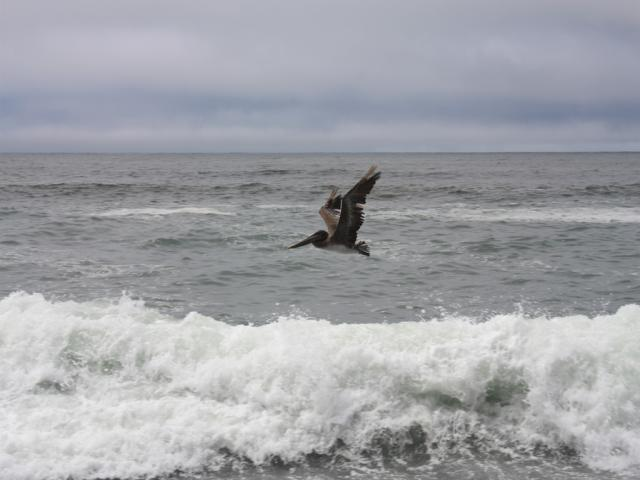Bird: (290, 164, 380, 260)
